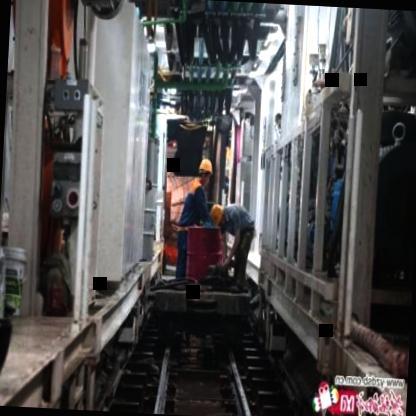helmet: (208, 199, 230, 228), (196, 158, 216, 186)
